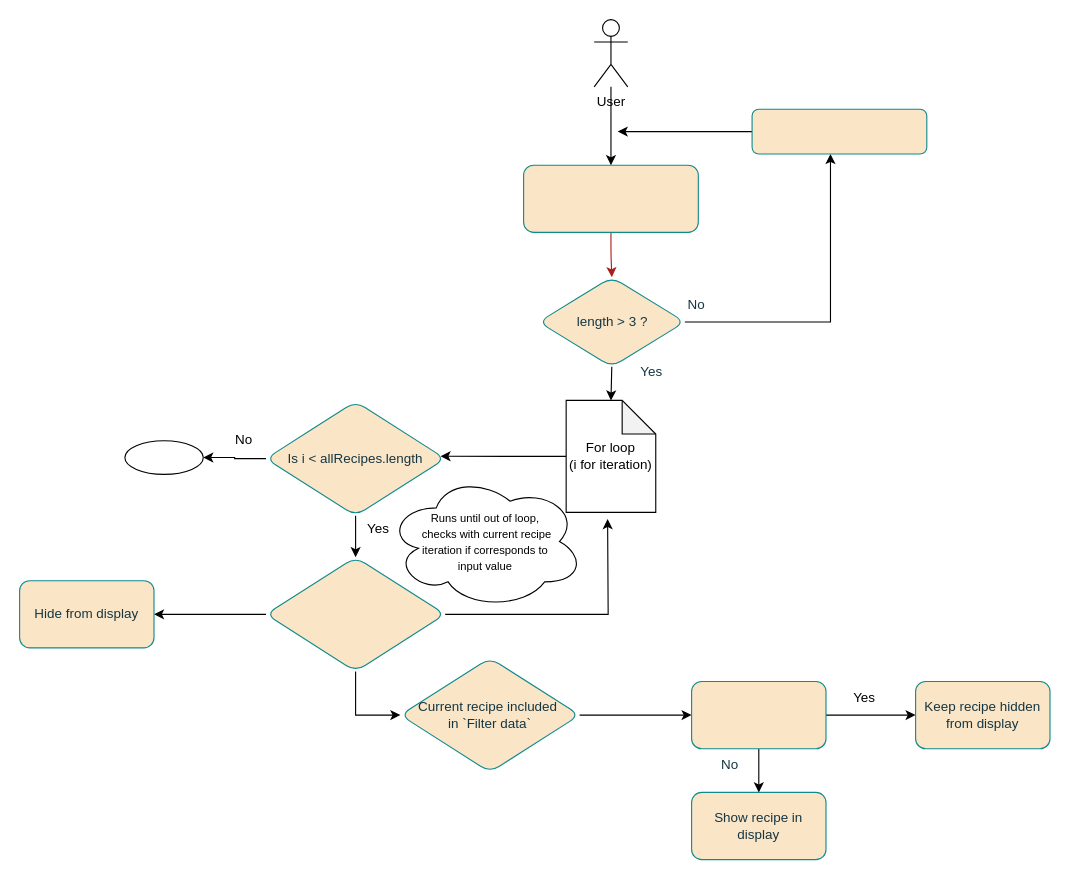
Some shapes in this 1070 by 879 pixel diagram are drawn without their labels. Each missing label, with the centre of its shape:
allRecipes[i] included in ` Filter data`: the point at 355,613
Display All Recipes: the point at 839,131
End loop: the point at 163,457
Is current recipe hidden by tags ?: the point at 758,714
User uses search form: the point at 610,198
